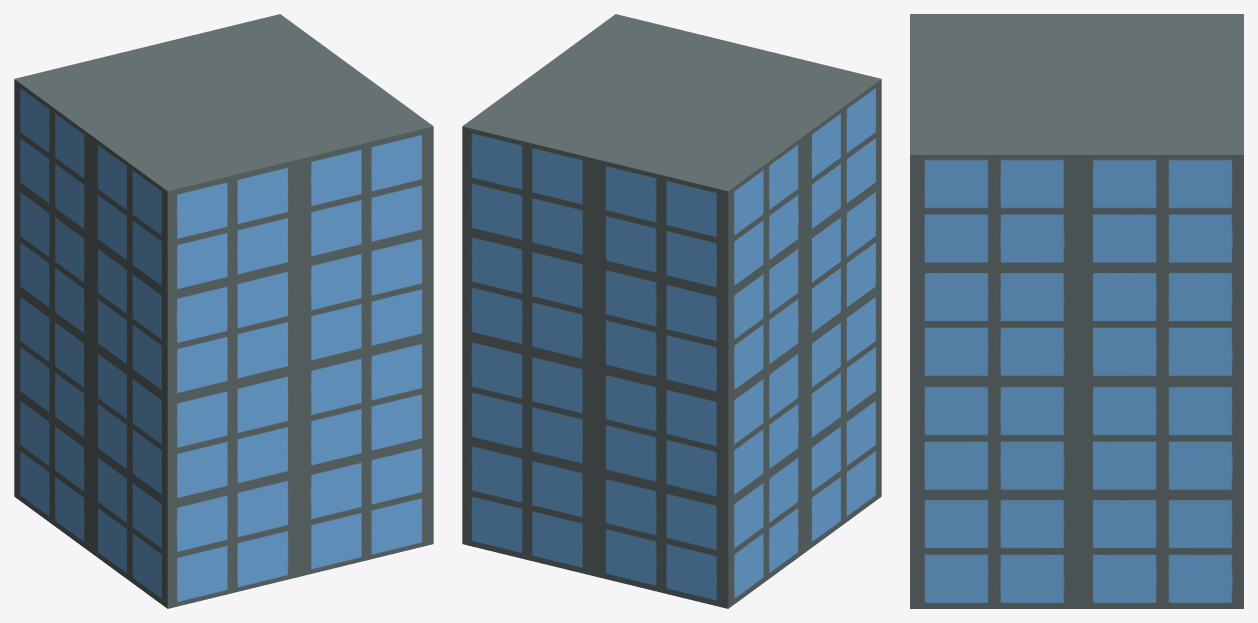
Rendered from bigBuilding.fbx.
3 views of the same model, side by side, from view 1: azimuth 30°, elevation 25°; view 2: azimuth 150°, elevation 25°; view 3: azimuth 270°, elevation 25° (orthographic). The views are drawn at different scales.
Parts seen in each view (by area): view 1: Cube, Cube_cell.001, Cube_cell, Cube_cell.005, Cube_cell.004, Cube_cell.003, Cube_cell.002, Cube_cell.007; view 2: Cube, Cube_cell.006, Cube_cell.002, Cube_cell.005, Cube_cell, Cube_cell.003, Cube_cell.001, Cube_cell.007; view 3: Cube, Cube_cell.004, Cube_cell.007, Cube_cell.005, Cube_cell.006, Cube_cell.003, Cube_cell.001.
Part boxes in pixels (bbox=[...]): Cube: bbox=[14, 14, 433, 608]; Cube_cell.001: bbox=[63, 106, 366, 431]; Cube_cell: bbox=[64, 369, 359, 608]; Cube_cell.005: bbox=[185, 68, 433, 299]; Cube_cell.004: bbox=[303, 267, 433, 561]; Cube_cell.003: bbox=[14, 44, 187, 335]; Cube_cell.002: bbox=[14, 285, 74, 532]; Cube_cell.007: bbox=[158, 14, 433, 291]; Cube: bbox=[462, 37, 881, 608]; Cube_cell.006: bbox=[462, 349, 660, 588]; Cube_cell.002: bbox=[657, 391, 788, 608]; Cube_cell.005: bbox=[536, 14, 737, 127]; Cube_cell: bbox=[787, 350, 881, 548]; Cube_cell.003: bbox=[591, 115, 802, 395]; Cube_cell.001: bbox=[698, 45, 881, 382]; Cube_cell.007: bbox=[475, 72, 629, 156]; Cube: bbox=[910, 14, 1243, 608]; Cube_cell.004: bbox=[910, 311, 1084, 608]; Cube_cell.007: bbox=[911, 83, 1243, 397]; Cube_cell.005: bbox=[910, 67, 1150, 296]; Cube_cell.006: bbox=[1059, 397, 1243, 608]; Cube_cell.003: bbox=[1080, 14, 1243, 89]; Cube_cell.001: bbox=[910, 14, 1089, 89].
Bounding box in the file's own units: 1000 × 1500 × 1000.
